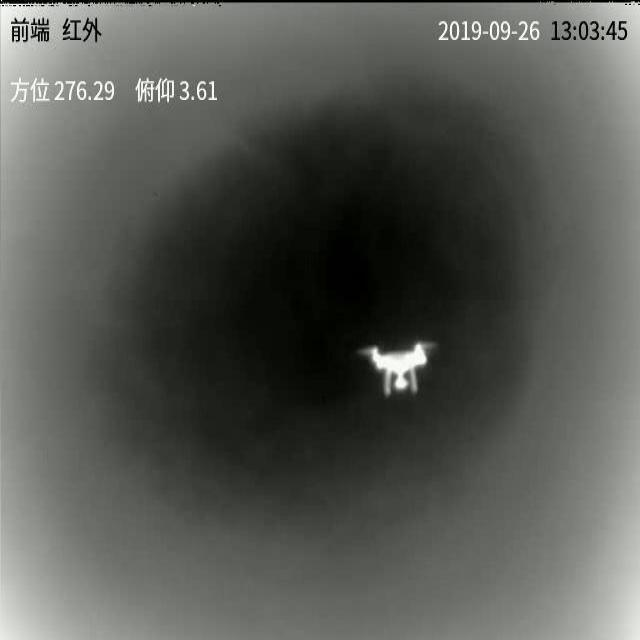drone: (359, 342, 439, 398)
